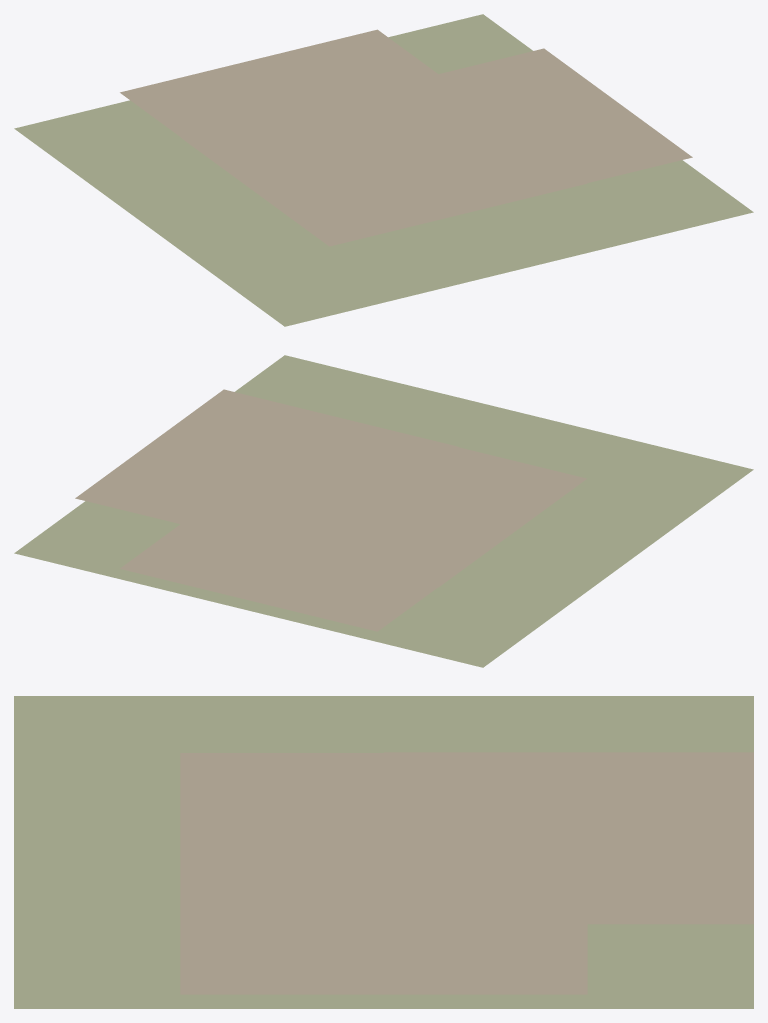
The picture shows the model from 3 angles, top to bottom: view 1: azimuth 30°, elevation 25°; view 2: azimuth 150°, elevation 25°; view 3: azimuth 270°, elevation 25°; orthographic projection. The views are drawn at different scales.
Visible parts, largest first — view 1: Near; view 2: Near; view 3: Near.
Boxes of the visible parts, x1=… form: Near: x1=14, y1=14, x2=753, y2=326; Near: x1=14, y1=355, x2=753, y2=667; Near: x1=14, y1=696, x2=753, y2=1008.
Bounding box in the file's own units: 1 × 0.021 × 1.
